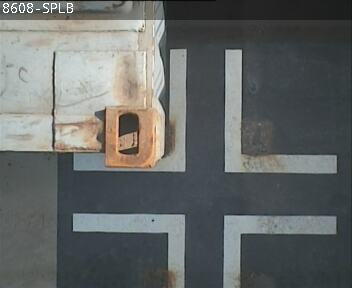groundmarker_1: (71, 49, 335, 171), (73, 213, 337, 288)
